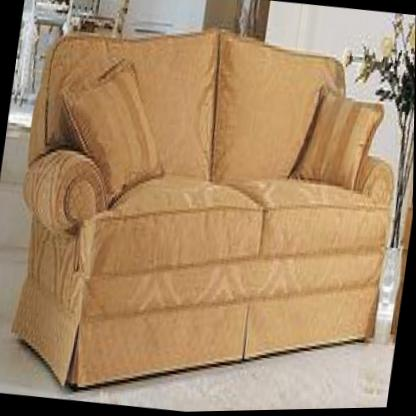Sofa: (0, 3, 416, 416)
